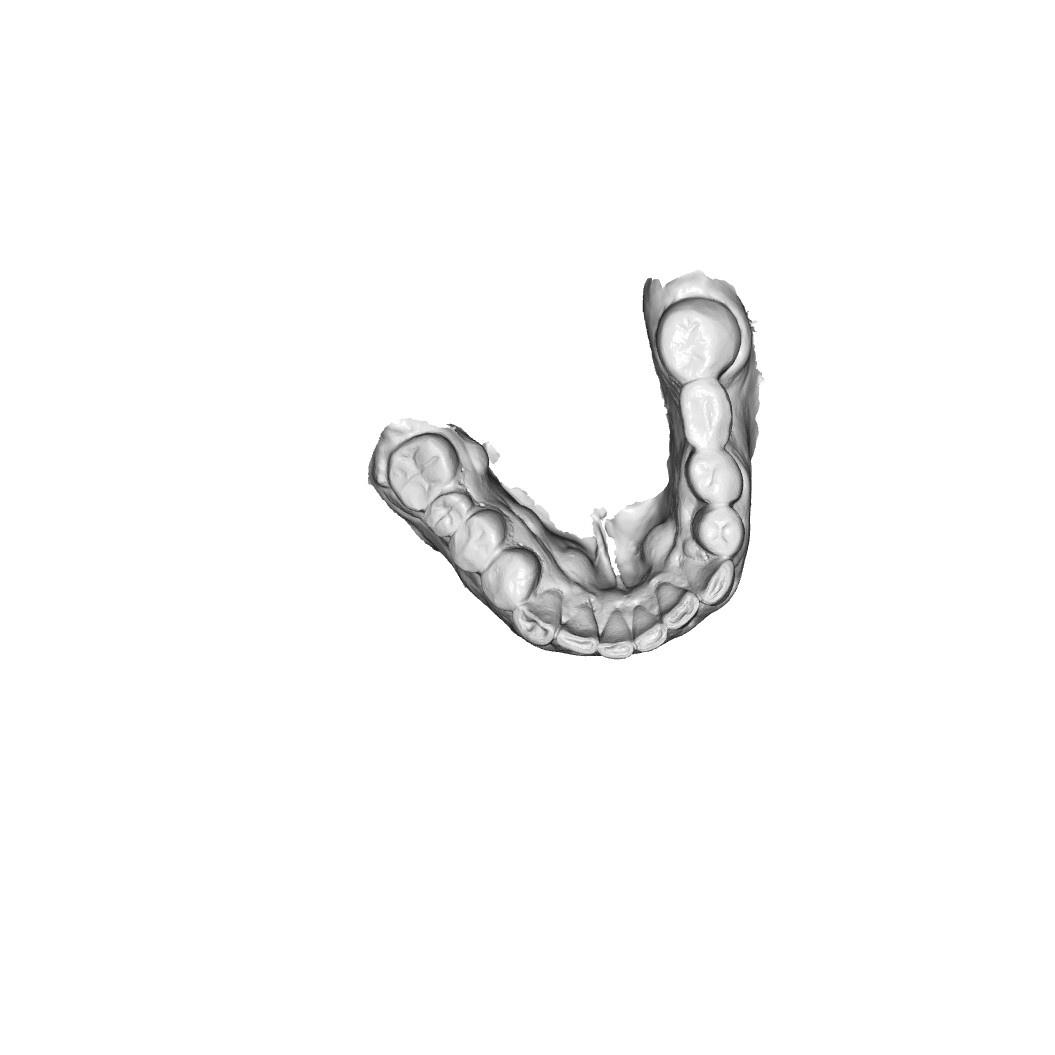canine: (682, 552, 737, 604), (513, 592, 558, 650)
incisor: (659, 577, 698, 629), (559, 604, 597, 657), (632, 607, 670, 650), (602, 612, 633, 660)
molar: (656, 300, 739, 384), (383, 434, 452, 512), (678, 375, 733, 451)
premolar: (477, 549, 537, 609), (688, 446, 743, 506), (450, 514, 502, 569), (700, 502, 741, 557), (428, 488, 472, 533)
